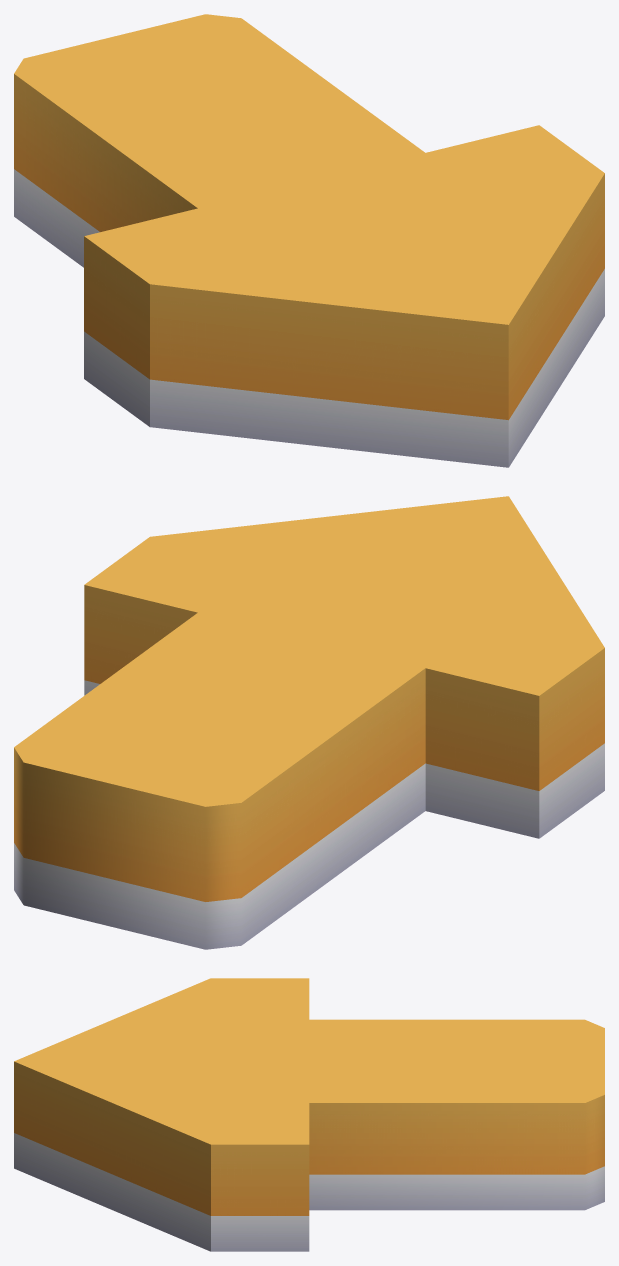
The model's file is arrow-transformed.glb.
3 views of the same model, one above another, from view 1: azimuth 30°, elevation 25°; view 2: azimuth 150°, elevation 25°; view 3: azimuth 270°, elevation 25° (orthographic). The views are drawn at different scales.
Parts seen in each view (by area): view 1: arrow; view 2: arrow; view 3: arrow.
Part boxes in pixels (x1,y1,x2,y2): arrow: (14,14,604,467); arrow: (14,496,604,949); arrow: (14,978,604,1251).
Bounding box in the file's own units: 2 × 0.6001 × 3.
Materials: 1 (1 with a texture image).
